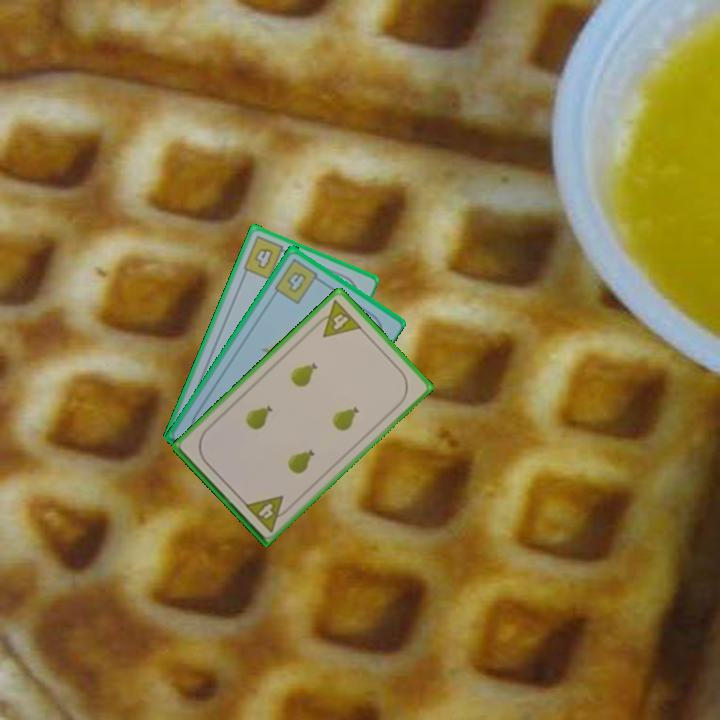4b: (271, 254, 325, 306), (239, 232, 292, 282)
4p: (310, 296, 365, 340), (241, 492, 294, 535)
